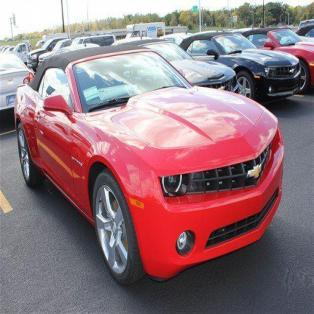Auto: (12, 42, 288, 292)
